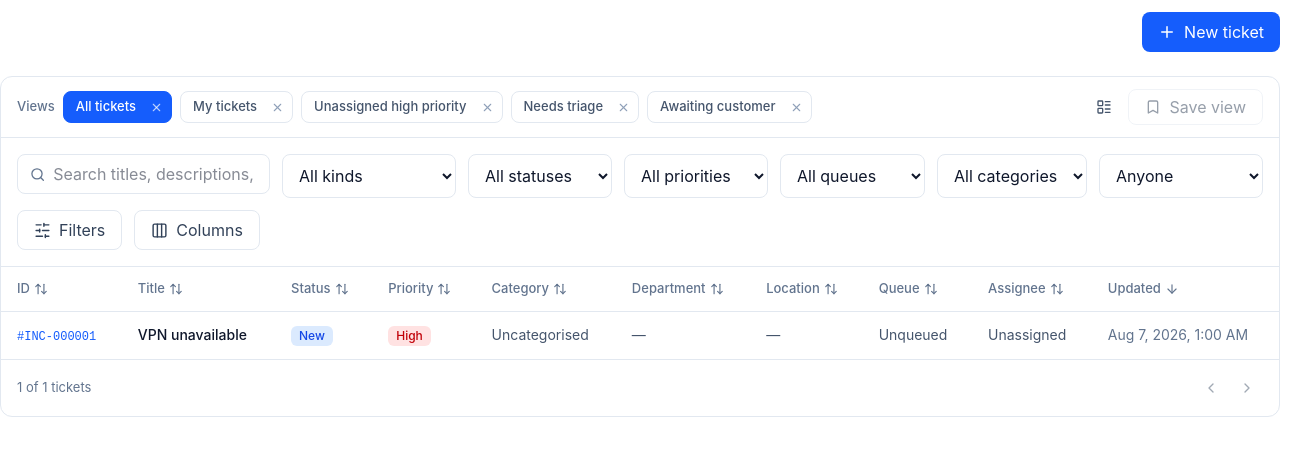
it: TicketListPage › the default views › removes a default and offers it back from the menu
expect the link "VPN unavailable" is shown: met, box x1=138 y1=326 x2=247 y2=343
Click the button named "Remove All tickets" at (160, 107), box x1=148 y1=92 x2=171 y2=122
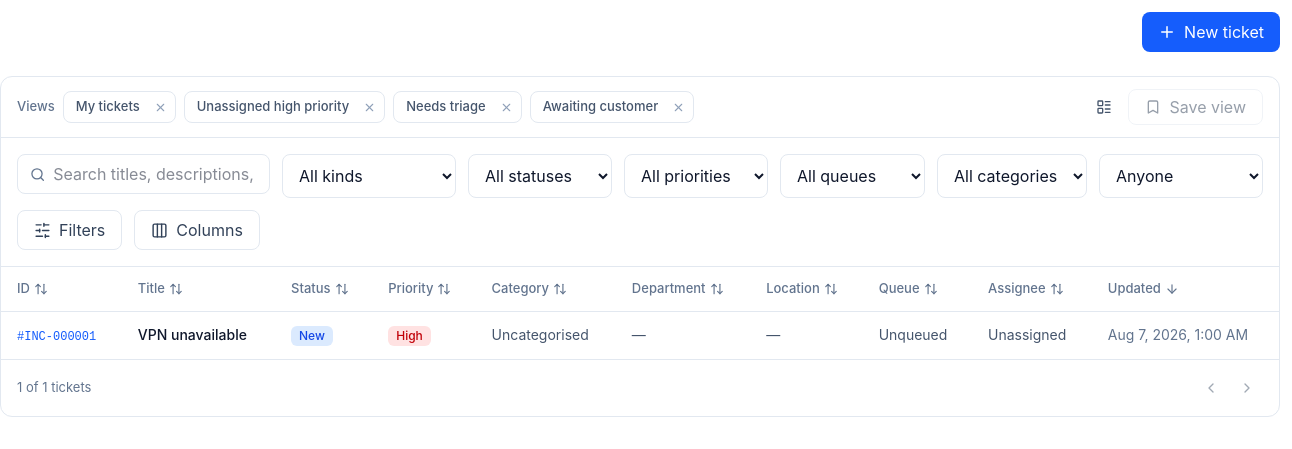
expect the button "All tickets" is gone: met
Click the button named "Default views" at (1104, 107), box x1=1088 y1=89 x2=1120 y2=125
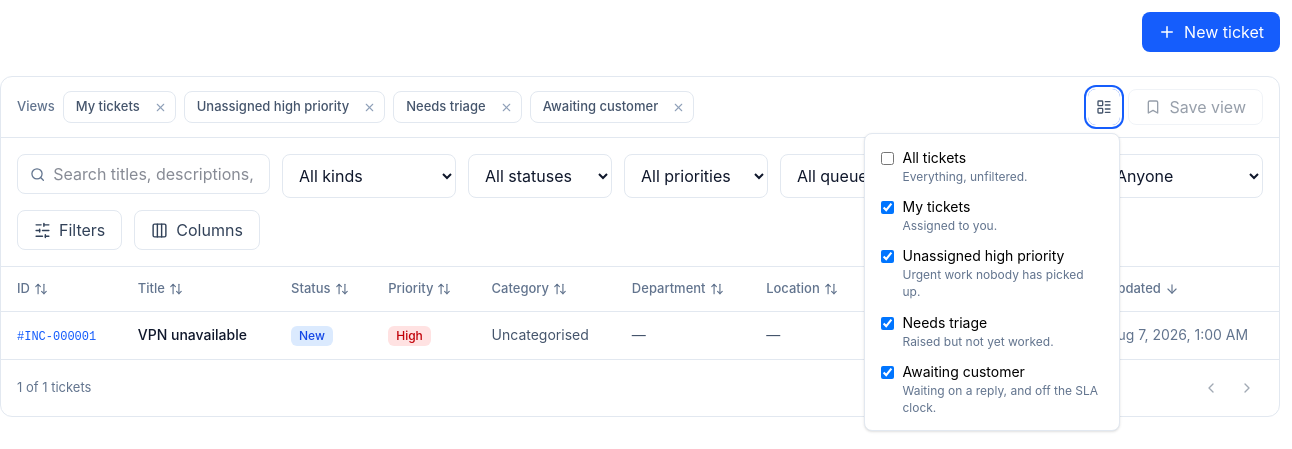
expect the checkbox labelled "All tickets Everything, unfiltered." is not checked: met
Click the checkbox labelled "All tickets Everything, unfiltered." at (888, 158), box x1=882 y1=152 x2=894 y2=165
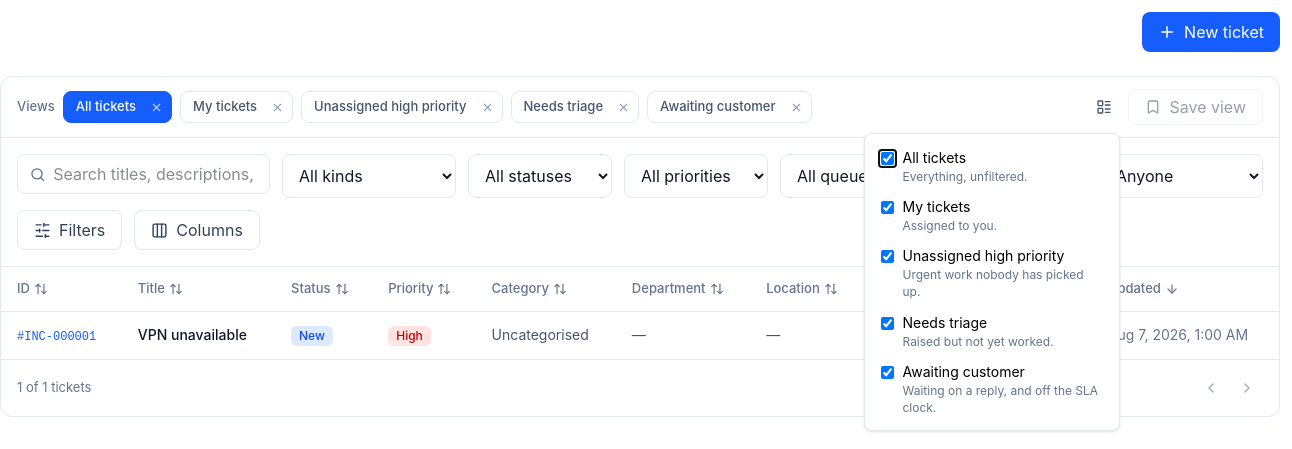
expect the button "All tickets" is shown: met, box x1=64 y1=92 x2=148 y2=122
